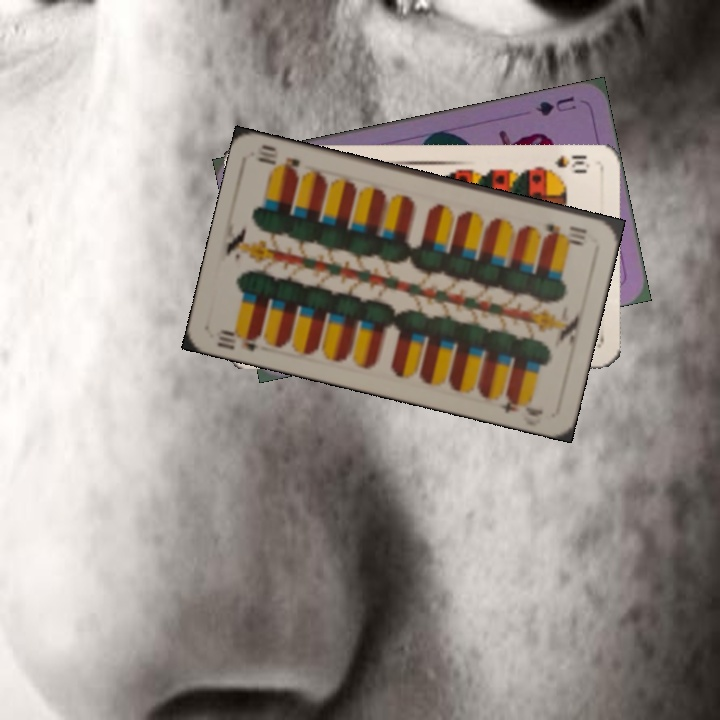E10: (212, 325, 264, 354), (541, 219, 590, 245)
GU: (531, 92, 579, 119)
S10: (537, 151, 592, 176)
